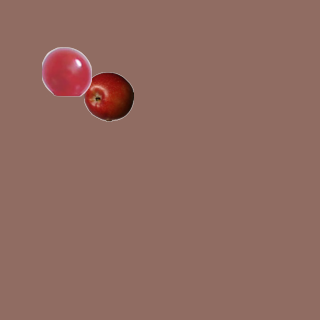Apple Braeburn: (83, 71, 133, 121)
Redcurrant: (41, 46, 91, 96)
